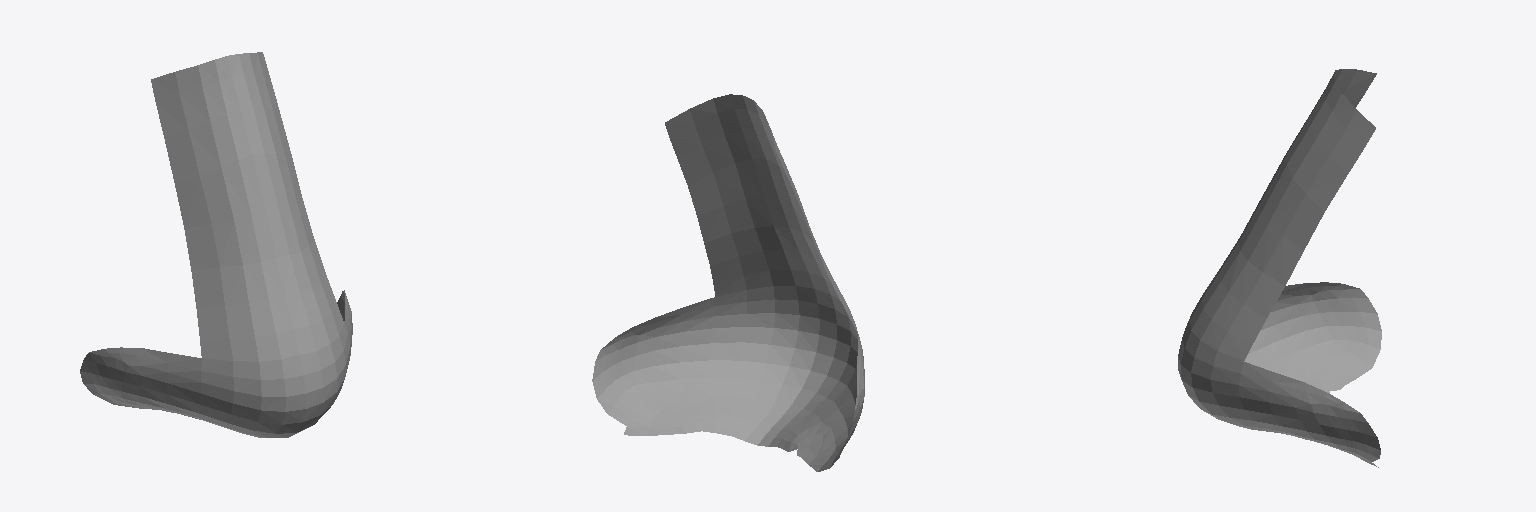
Rendered from euro-nose-down.obj.
3 views of the same model, side by side, from view 1: azimuth 30°, elevation 25°; view 2: azimuth 150°, elevation 25°; view 3: azimuth 270°, elevation 25° (orthographic).
Parts seen in each view (by area): view 1: euro-nose-down.003; view 2: euro-nose-down.003; view 3: euro-nose-down.003.
Part boxes in pixels (bbox=[...]): euro-nose-down.003: bbox=[80, 52, 352, 437]; euro-nose-down.003: bbox=[592, 94, 864, 471]; euro-nose-down.003: bbox=[1178, 69, 1381, 467].
Bounding box in the file's own units: 0.2667 × 0.3588 × 0.1833.